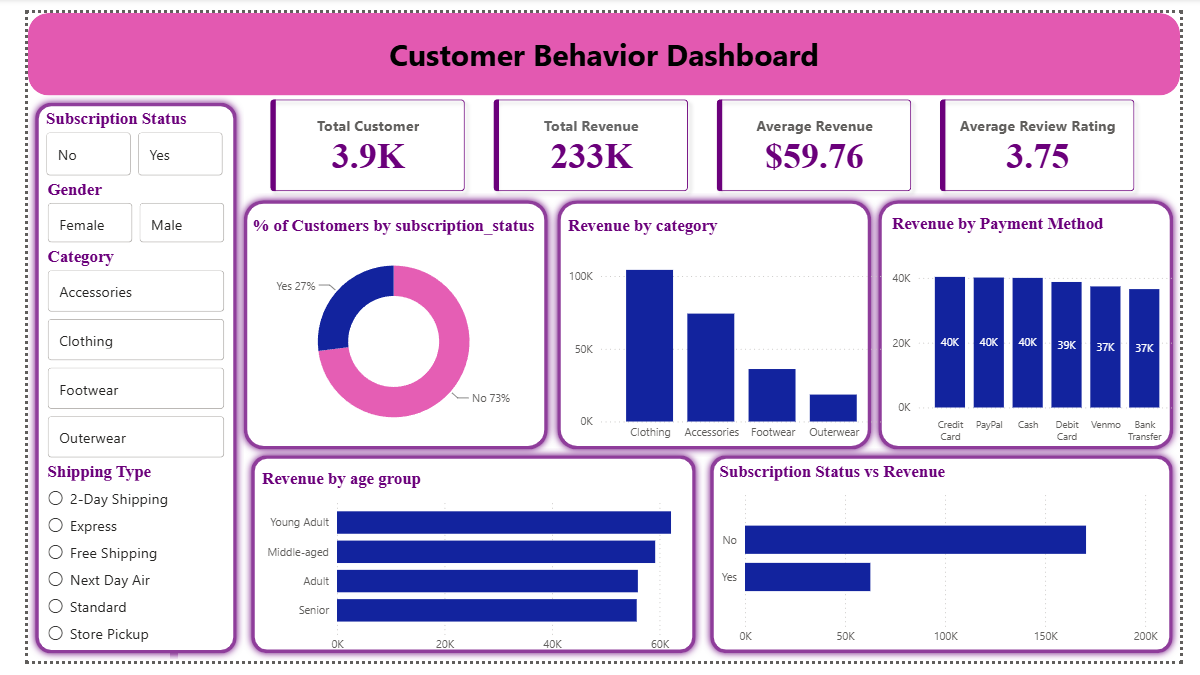

The page's visual inventory and layout, read from the dashboard file:
{"tool":"powerbi","page":{"name":"Page 1","canvas":[1280,720],"ordinal":0},"visuals":[{"type":"shape","box":[0,92,240,628],"z":0},{"type":"cardVisual","fields":{"Data":["CountNonNull(public customer.customer_id)","Sum(public customer.purchase_amount)1","Avg(public customer.purchase_amount)","Avg(public customer.review_rating)"]},"box":[240,66,1020,160],"z":1000},{"type":"shape","box":[232,200,354,293],"z":2000},{"type":"shape","box":[580,200,365,293],"z":3000},{"type":"shape","box":[936,200,344,293],"z":4000},{"type":"shape","box":[240,484,510,236],"z":5000},{"type":"shape","box":[750,484,530,236],"z":6000},{"type":"donutChart","title":"% of Customers by subscription_status","fields":{"Y":["CountNonNull(public customer.customer_id)"],"Category":["public customer.subscription_status"]},"box":[231.4,225.7,348.6,258.6],"z":7000},{"type":"shape","box":[0,0,1280,91.7],"z":8000},{"type":"columnChart","title":"Revenue by category","fields":{"Y":["Sum(public customer.purchase_amount)"],"Category":["public customer.category"]},"box":[595.7,225.7,360,258.6],"z":9000},{"type":"columnChart","title":"Revenue by Payment Method","fields":{"Y":["Sum(public customer.purchase_amount)"],"Category":["public customer.payment_method"]},"box":[955,223.3,325,261.7],"z":10000},{"type":"barChart","title":"Revenue by age group","fields":{"Y":["Sum(public customer.purchase_amount)"],"Category":["public customer.age_group"]},"box":[254.4,507,521.1,212.3],"z":11000},{"type":"barChart","title":"Subscription Status vs Revenue","fields":{"Y":["Sum(public customer.purchase_amount)"],"Category":["public customer.subscription_status"]},"box":[763.3,498.3,496.7,211.7],"z":12000},{"type":"advancedSlicerVisual","title":"Gender","fields":{"Values":["public customer.gender"]},"box":[16.2,185,206.2,75],"z":13000},{"type":"advancedSlicerVisual","title":"Subscription Status","fields":{"Values":["public customer.subscription_status"]},"box":[15.8,107,207,78.9],"z":14000},{"type":"advancedSlicerVisual","title":"Category","fields":{"Values":["public customer.category"]},"box":[16.2,260,206.2,238.8],"z":15000},{"type":"listSlicer","title":"Shipping Type","fields":{"Values":["public customer.shipping_type"]},"box":[16.2,498.8,206.2,211.2],"z":16000}]}

Visuals, with their boxes in screenshot pixels (x1, y1, x2, y2), scaled from the page's 1280x720 canvas onto the 1200x675 screenshot:
shape: l=0, t=86, r=225, b=674
cardVisual - CountNonNull(public customer.customer_id) x Sum(public customer.purchase_amount)1: l=225, t=62, r=1181, b=212
shape: l=218, t=188, r=549, b=462
shape: l=544, t=188, r=886, b=462
shape: l=878, t=188, r=1199, b=462
shape: l=225, t=454, r=703, b=674
shape: l=703, t=454, r=1199, b=674
"% of Customers by subscription_status" donutChart: l=217, t=212, r=544, b=454
shape: l=0, t=0, r=1199, b=86
"Revenue by category" columnChart: l=558, t=212, r=896, b=454
"Revenue by Payment Method" columnChart: l=895, t=209, r=1199, b=455
"Revenue by age group" barChart: l=238, t=475, r=727, b=674
"Subscription Status vs Revenue" barChart: l=716, t=467, r=1181, b=666
"Gender" advancedSlicerVisual: l=15, t=173, r=208, b=244
"Subscription Status" advancedSlicerVisual: l=15, t=100, r=209, b=174
"Category" advancedSlicerVisual: l=15, t=244, r=208, b=468
"Shipping Type" listSlicer: l=15, t=468, r=208, b=666
